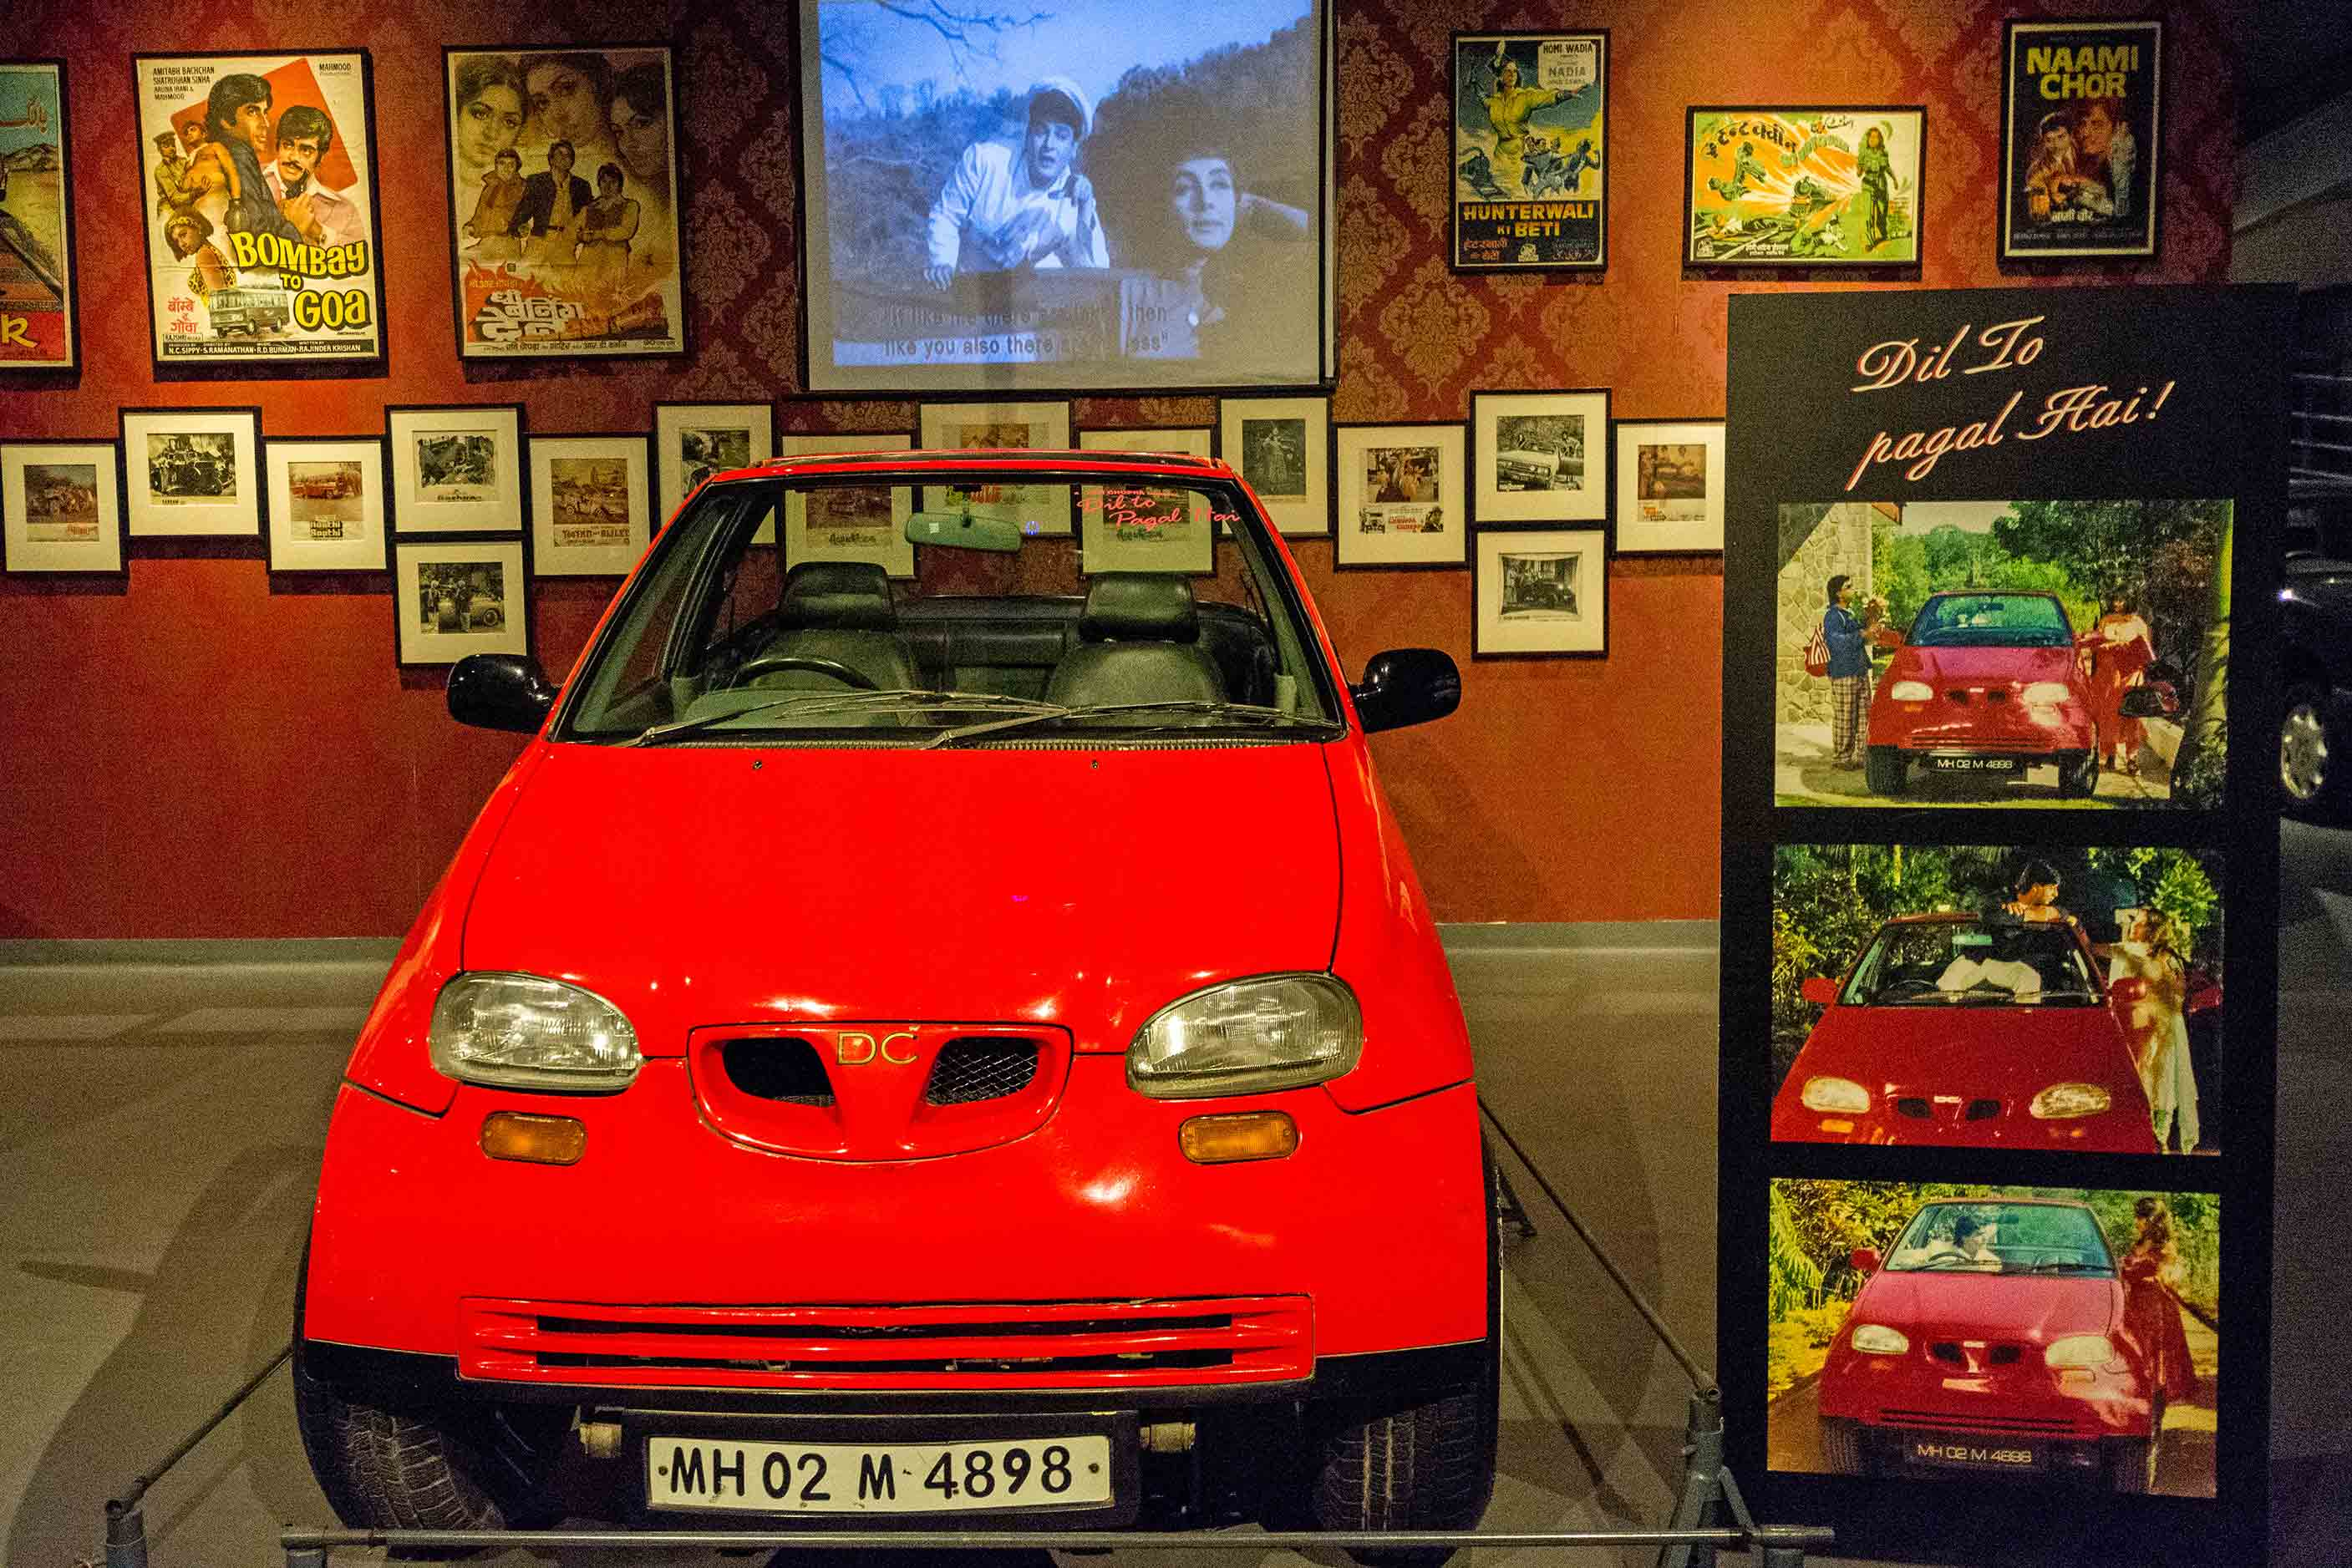number_plate: (627, 1418, 1150, 1532)
